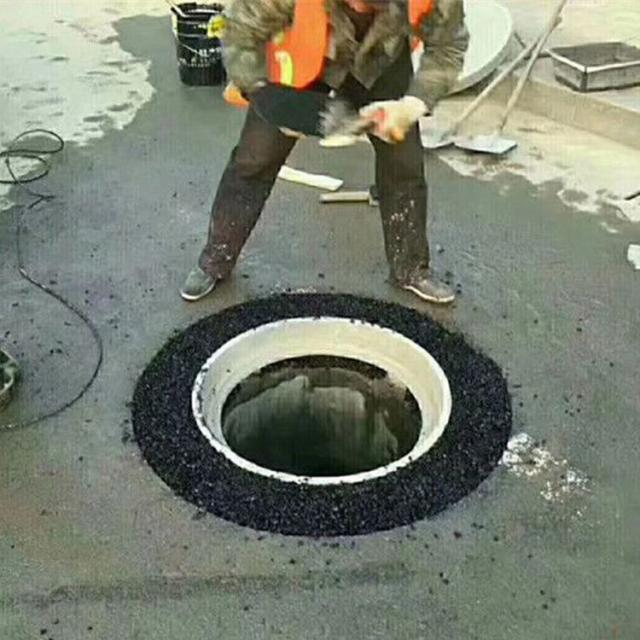manhole-cover: (175, 299, 477, 511)
